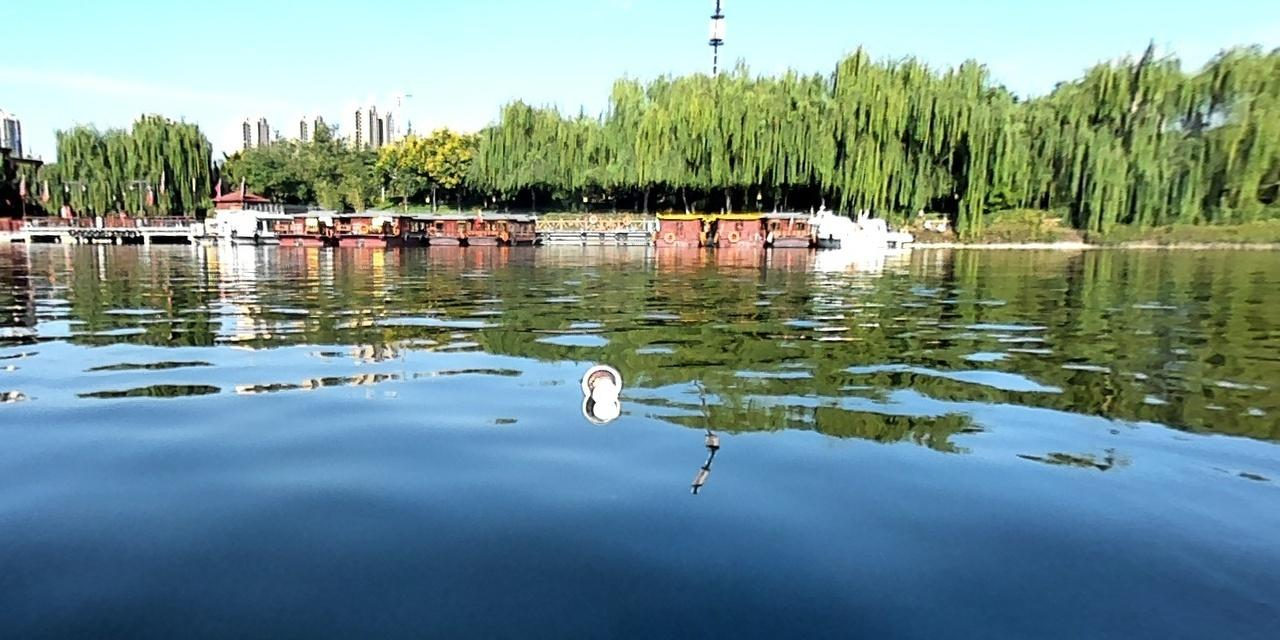bottle: (576, 359, 626, 400)
